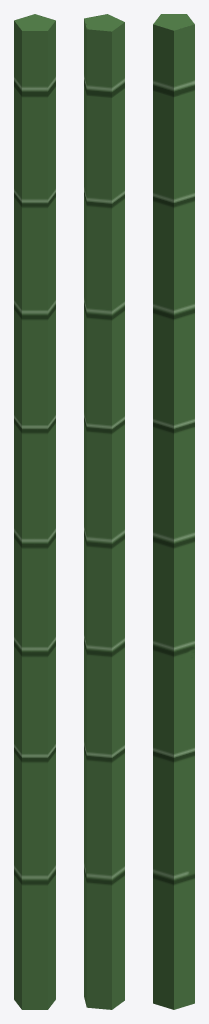
Rendered from Panda_Bamboo_0.fbx.
3 views of the same model, side by side, from view 1: azimuth 90°, elevation 25°; view 2: azimuth 150°, elevation 25°; view 3: azimuth 270°, elevation 25° (orthographic).
Visible parts, largest first — view 1: Bamboo; view 2: Bamboo; view 3: Bamboo.
Boxes of the visible parts, box(x1,y1,x2,y2) form: Bamboo: box(14, 14, 55, 1009); Bamboo: box(84, 14, 124, 1009); Bamboo: box(153, 14, 194, 1009).
Bounding box in the file's own units: 0.0593 × 1.61 × 0.0624.
